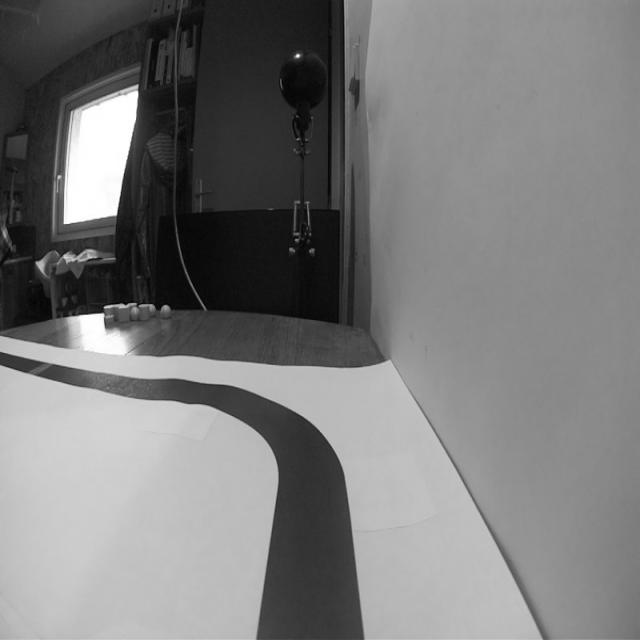lineStraight: (244, 480, 381, 640)
